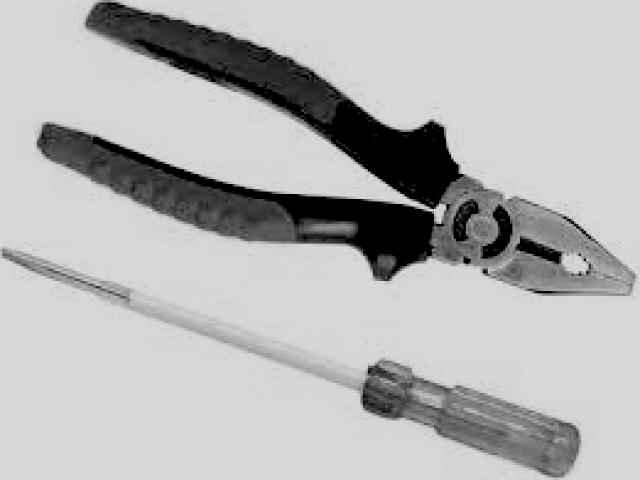Pliers: (38, 4, 635, 295)
Screwdriver: (2, 250, 580, 477)
